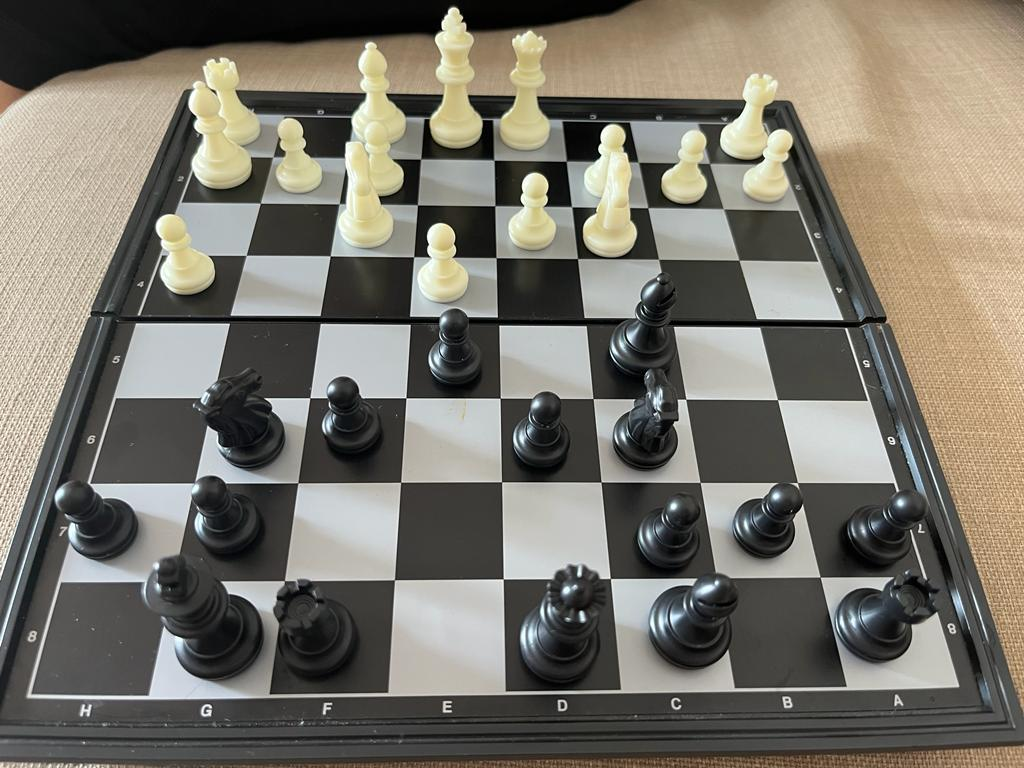BB: (649, 569, 740, 671), (606, 271, 685, 367)
BK: (143, 545, 262, 686)
BN: (192, 366, 289, 470), (606, 372, 685, 474)
BP: (47, 471, 139, 563), (184, 473, 262, 556), (847, 483, 929, 558), (733, 481, 800, 561), (633, 493, 702, 562), (420, 308, 483, 383), (321, 369, 380, 448), (512, 390, 571, 468)
BQ: (522, 561, 605, 679)
BR: (836, 575, 942, 666), (267, 573, 355, 679)
WB: (184, 82, 251, 187), (351, 43, 409, 140)
WK: (422, 0, 483, 144)
WN: (334, 141, 394, 252), (584, 153, 638, 254)
WP: (149, 212, 217, 293), (411, 222, 472, 304), (504, 173, 561, 251), (355, 118, 407, 193), (743, 130, 793, 206), (272, 121, 322, 193), (664, 125, 708, 206), (584, 121, 628, 186)
WQ: (495, 27, 556, 150)
WR: (198, 55, 262, 141), (720, 69, 777, 164)
